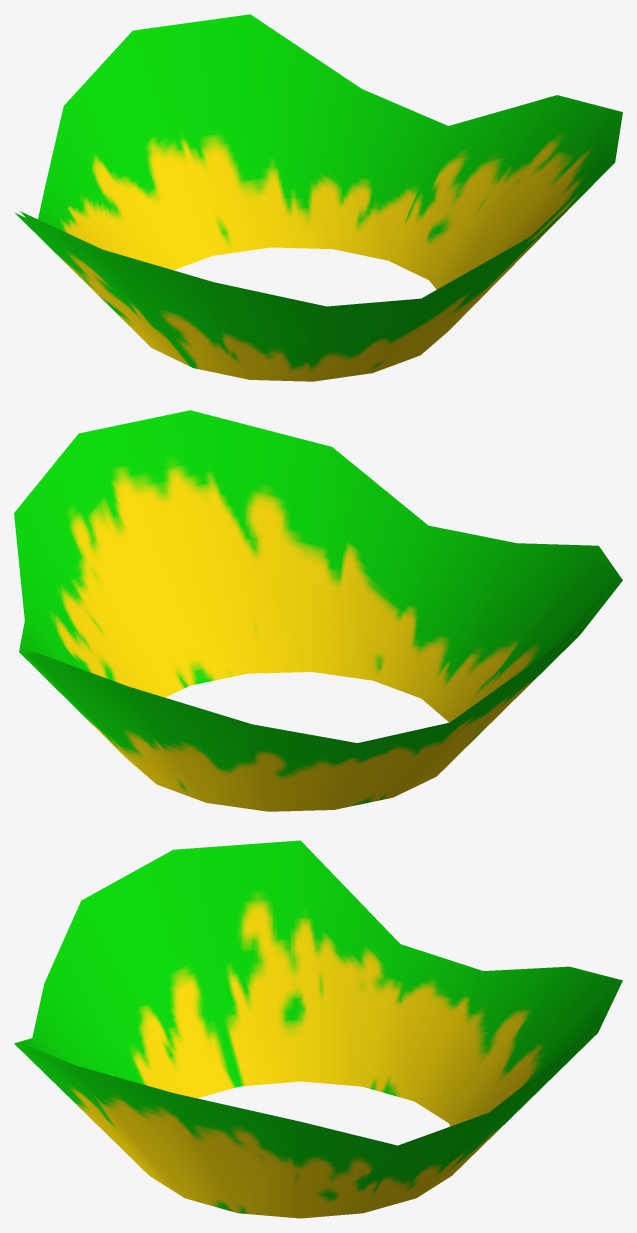
File: p_watercylinder03.fbx
3 views of the same model, one above another, from view 1: azimuth 30°, elevation 25°; view 2: azimuth 150°, elevation 25°; view 3: azimuth 270°, elevation 25° (orthographic). The views are drawn at different scales.
Visible parts, largest first — view 1: pCylinder6; view 2: pCylinder6; view 3: pCylinder6.
Part boxes in pixels (x1,y1,x2,y2): pCylinder6: (14, 14, 622, 381); pCylinder6: (14, 410, 622, 811); pCylinder6: (14, 840, 622, 1218).
Bounding box in the file's own units: 2.36 × 0.7581 × 2.25.
Materials: 1 (1 with a texture image).
